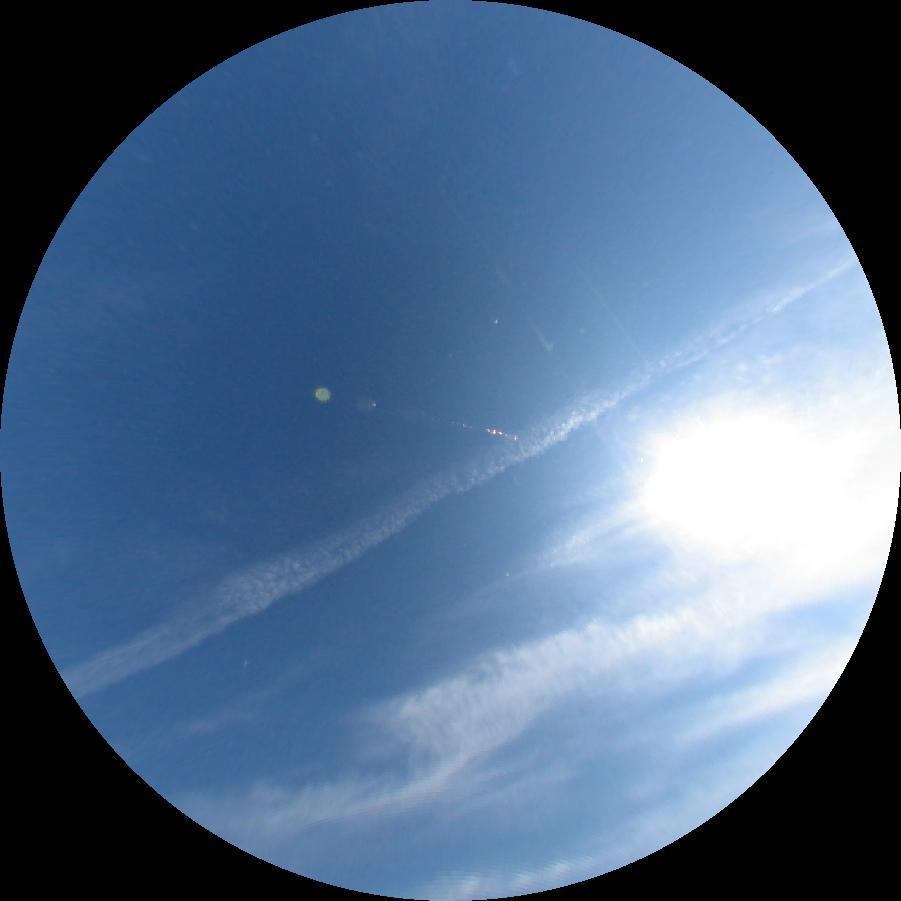contrail old: (488, 252, 675, 558), (559, 245, 646, 363)
contrail veryold: (57, 253, 857, 701), (221, 546, 883, 845), (416, 851, 626, 900)
sun: (664, 408, 899, 549)
